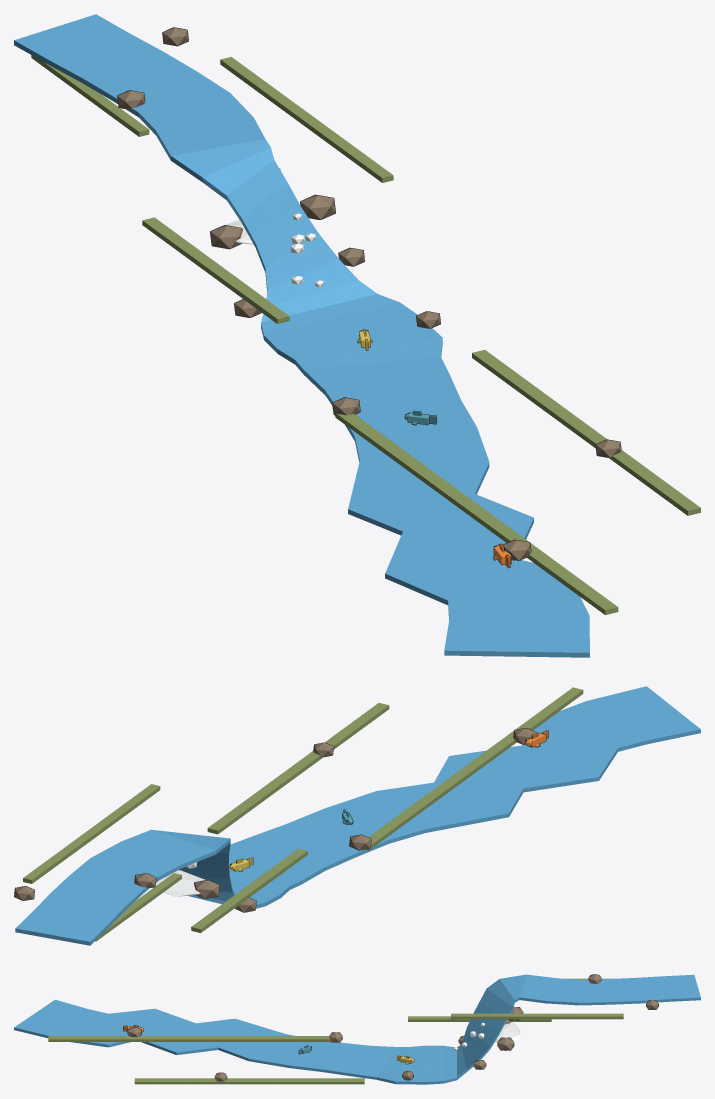
Rendered from bethlehem_stream_fish_alive_v7.glb.
3 renders of one model, top to bottom at view 1: azimuth 30°, elevation 25°; view 2: azimuth 150°, elevation 25°; view 3: azimuth 270°, elevation 25°, orthographic. The views are drawn at different scales.
Parts seen in each view (by area): view 1: Stream_Water, Bank_0, Bank_1, Bank_3, Bank_2, Bank_4; view 2: Stream_Water, Bank_0, Bank_1, Bank_3, Bank_2, Bank_4, Foam_Splash; view 3: Stream_Water, Bank_0, Bank_1, Bank_3, Bank_2, Foam_Splash.
Part boxes in pixels (x1,y1,x2,y2): Stream_Water: (14,14,589,657); Bank_0: (335,413,618,614); Bank_1: (472,350,700,515); Bank_3: (220,57,393,182); Bank_2: (142,217,289,323); Bank_4: (31,55,149,136); Stream_Water: (15,686,700,945); Bank_0: (365,687,583,850); Bank_1: (207,703,389,834); Bank_3: (23,784,160,883); Bank_2: (191,848,307,932); Bank_4: (95,873,181,941); Foam_Splash: (152,870,204,896); Stream_Water: (14,974,700,1084); Bank_0: (48,1036,330,1041); Bank_1: (134,1078,364,1084); Bank_3: (451,1013,623,1019); Bank_2: (408,1016,551,1021); Foam_Splash: (494,1022,520,1042).
Bounding box in the file's own units: 7.1 × 3 × 23.88.
17 materials, 17 textured.
